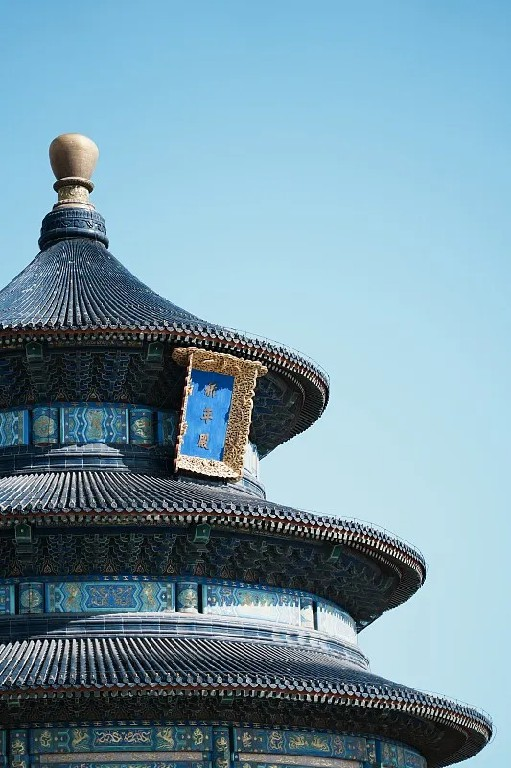Heaven: (1, 133, 497, 768)
